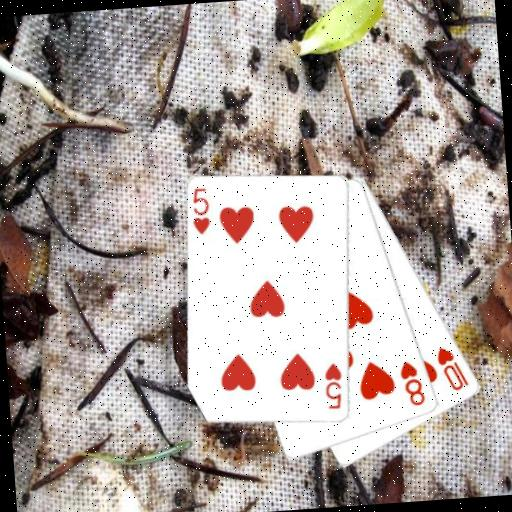10H: (434, 343, 472, 394)
5H: (187, 185, 213, 237), (322, 360, 347, 412)
8H: (397, 357, 428, 409)
